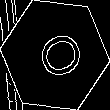O_SW: (25, 25, 85, 85)
